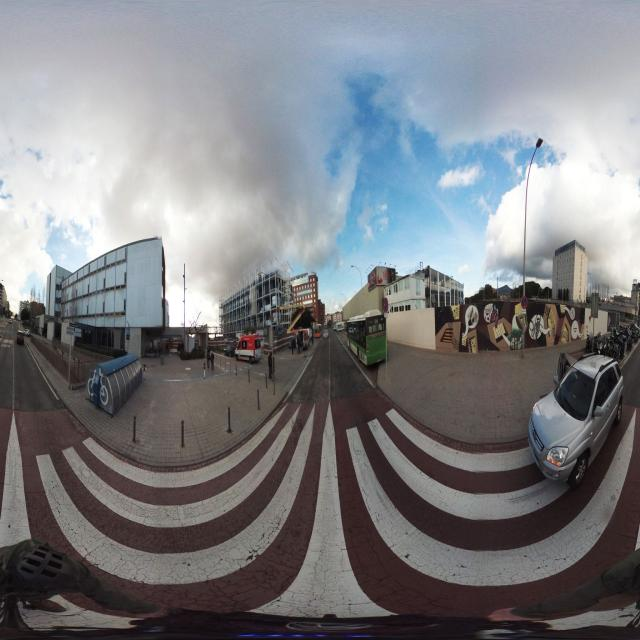forb_stopping: (521, 297, 527, 309)
forb_waiting: (383, 297, 388, 313)
